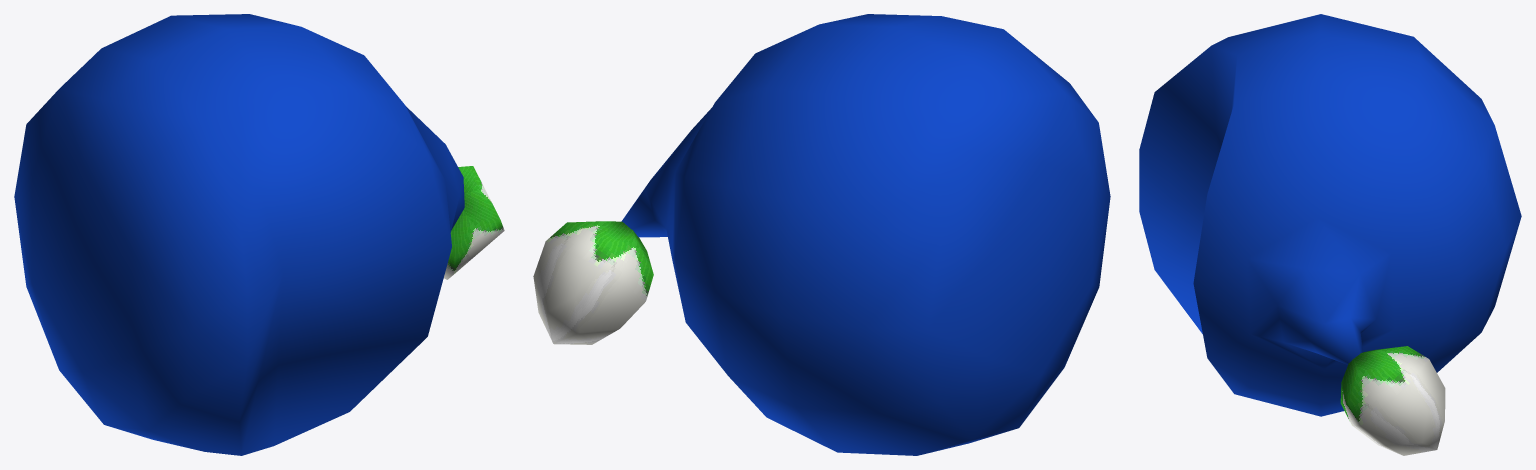
The model's file is hlmt_pikmin_blue.dae.
The picture shows the model from 3 angles, left to right: view 1: azimuth 30°, elevation 25°; view 2: azimuth 150°, elevation 25°; view 3: azimuth 270°, elevation 25°; orthographic projection. The views are drawn at different scales.
Parts seen in each view (by area): view 1: hlmt_pikmin_blue; view 2: hlmt_pikmin_blue; view 3: hlmt_pikmin_blue.
Part boxes in pixels (x1,y1,x2,y2): hlmt_pikmin_blue: (14,14,504,455); hlmt_pikmin_blue: (533,14,1110,455); hlmt_pikmin_blue: (1139,14,1521,455).
Size of the model in its own units: 29.51 by 25.2 by 24.02.
Materials: 2 (2 with a texture image).
